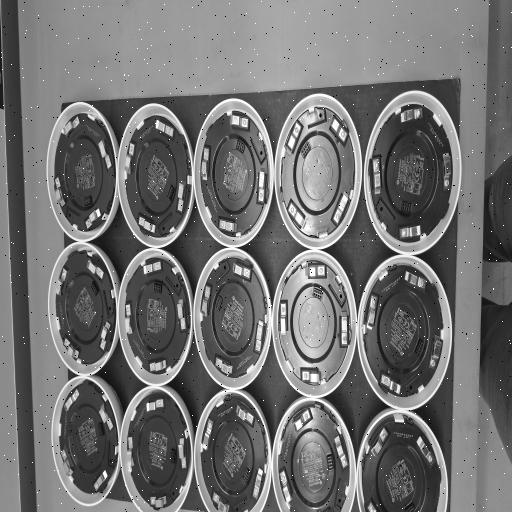konnektor: (414, 339, 424, 358), (301, 141, 311, 159), (167, 185, 175, 202), (243, 467, 251, 483), (327, 454, 334, 471), (236, 140, 245, 153), (401, 201, 411, 212), (216, 296, 223, 311), (313, 288, 322, 299), (91, 281, 98, 295), (170, 449, 176, 464), (154, 282, 162, 293), (98, 422, 104, 436), (84, 196, 91, 206)
yayli: (331, 191, 349, 226), (287, 200, 306, 229), (329, 116, 348, 144), (286, 121, 302, 154), (417, 436, 434, 467), (371, 427, 388, 456), (429, 335, 442, 370), (293, 408, 312, 431), (335, 436, 348, 469), (380, 374, 401, 394), (279, 470, 291, 503), (405, 271, 426, 289), (98, 140, 111, 168), (99, 404, 113, 430), (401, 107, 423, 123), (367, 295, 377, 330), (64, 388, 79, 411), (156, 119, 174, 138), (202, 419, 213, 450), (252, 468, 263, 499), (87, 259, 104, 279), (237, 406, 254, 426), (212, 492, 229, 512), (85, 208, 101, 229), (372, 157, 381, 194), (254, 320, 264, 353), (340, 311, 349, 347), (61, 449, 73, 476), (233, 263, 252, 280), (63, 116, 79, 136), (64, 338, 79, 359), (257, 169, 266, 204), (125, 143, 135, 174), (201, 285, 211, 316), (215, 357, 232, 375), (55, 177, 65, 207), (56, 268, 67, 295), (177, 298, 186, 331), (201, 147, 210, 180), (443, 153, 451, 190), (400, 225, 421, 239), (305, 264, 326, 278), (94, 470, 108, 491), (100, 321, 110, 350), (139, 216, 156, 233), (177, 181, 186, 213), (230, 114, 249, 129), (178, 438, 187, 469), (219, 218, 237, 233), (279, 302, 287, 335), (143, 261, 162, 274), (125, 304, 133, 334), (147, 398, 164, 412), (127, 437, 134, 467), (150, 359, 166, 372), (150, 496, 166, 508)
